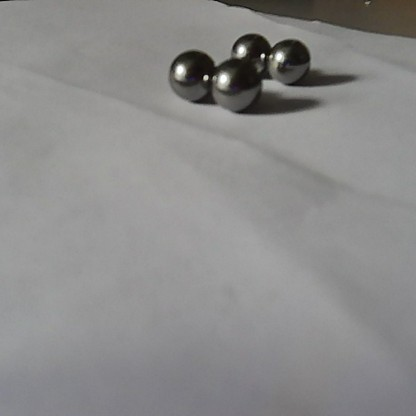ironball: (168, 48, 212, 102), (215, 60, 261, 108), (270, 38, 309, 83), (227, 30, 270, 60)
